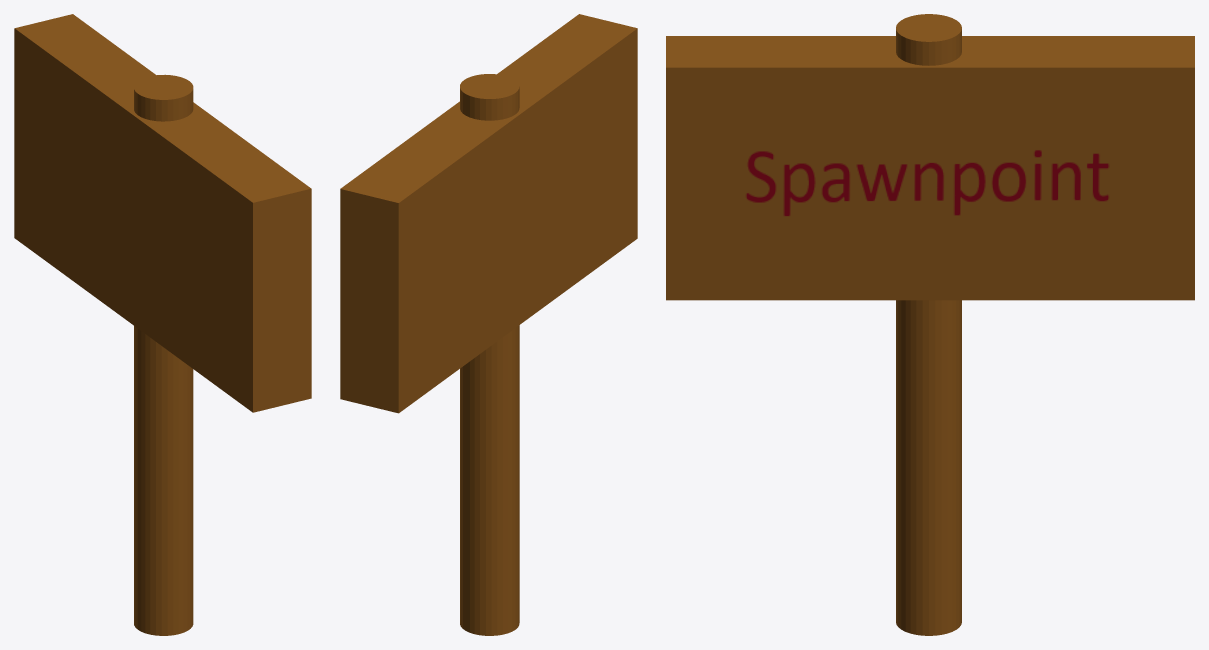
The model's file is signSpawnpoint.fbx.
3 views of the same model, side by side, from view 1: azimuth 30°, elevation 25°; view 2: azimuth 150°, elevation 25°; view 3: azimuth 270°, elevation 25° (orthographic). The views are drawn at different scales.
Visible parts, largest first — view 1: Cube.007, Cylinder.007; view 2: Cube.007, Cylinder.007; view 3: Cube.007, Cylinder.007.
Boxes of the visible parts, <box> form: Cube.007: <box>14,14,311,412</box>; Cylinder.007: <box>134,74,193,635</box>; Cube.007: <box>340,14,637,413</box>; Cylinder.007: <box>460,74,519,635</box>; Cube.007: <box>666,36,1194,300</box>; Cylinder.007: <box>896,14,961,635</box>.
Size of the model in its own units: 4.12 by 0.5827 by 5.11.
2 materials, 1 textured.
